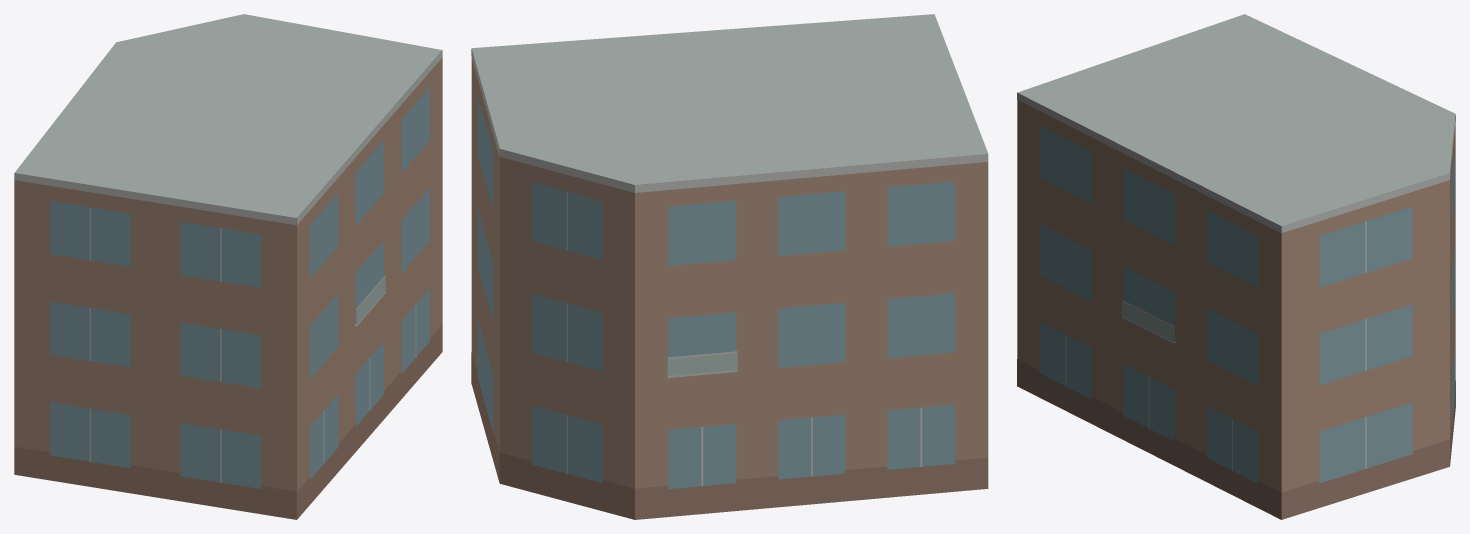
Rendered from survey-upis-32733512.glb.
3 views of the same model, side by side, from view 1: azimuth 30°, elevation 25°; view 2: azimuth 150°, elevation 25°; view 3: azimuth 270°, elevation 25° (orthographic). The views are drawn at different scales.
Visible parts, largest first — view 1: survey-upis-32733512.tmp; view 2: survey-upis-32733512.tmp; view 3: survey-upis-32733512.tmp.
Part boxes in pixels (x1,y1,x2,y2): survey-upis-32733512.tmp: (14, 14, 442, 519); survey-upis-32733512.tmp: (471, 14, 988, 519); survey-upis-32733512.tmp: (1017, 14, 1455, 519).
Size of the model in its own units: 15.82 by 10.2 by 13.81.
